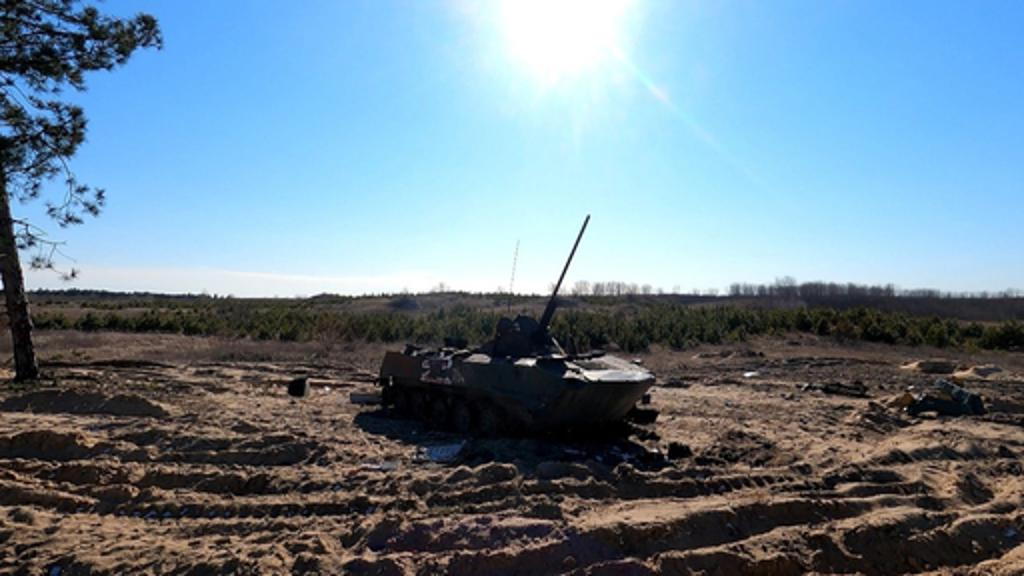APC-IFV: (370, 210, 662, 444)
